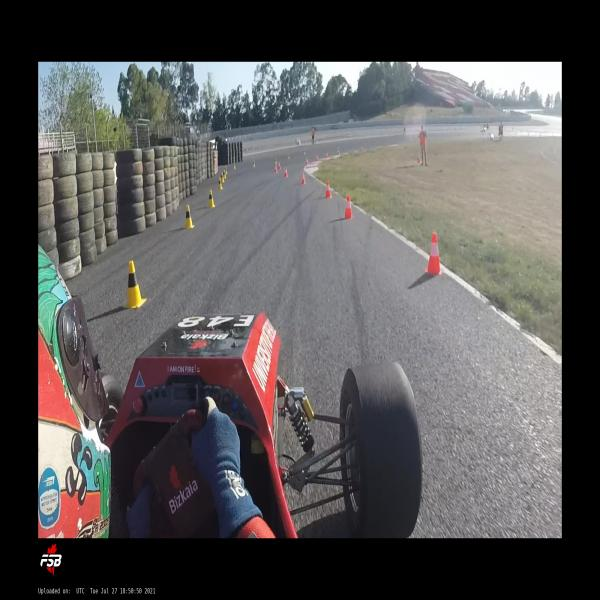orange_cone: (425, 232, 443, 274), (344, 195, 353, 219), (324, 181, 332, 198), (301, 172, 306, 184), (284, 168, 288, 177), (274, 165, 278, 173), (278, 162, 281, 169), (306, 157, 308, 165), (316, 155, 318, 160)
yellow_cone: (124, 261, 146, 308), (184, 204, 195, 228), (208, 189, 216, 208), (218, 177, 223, 190), (221, 172, 225, 183), (233, 162, 237, 169), (223, 170, 226, 179), (253, 160, 255, 167), (274, 157, 276, 164)
